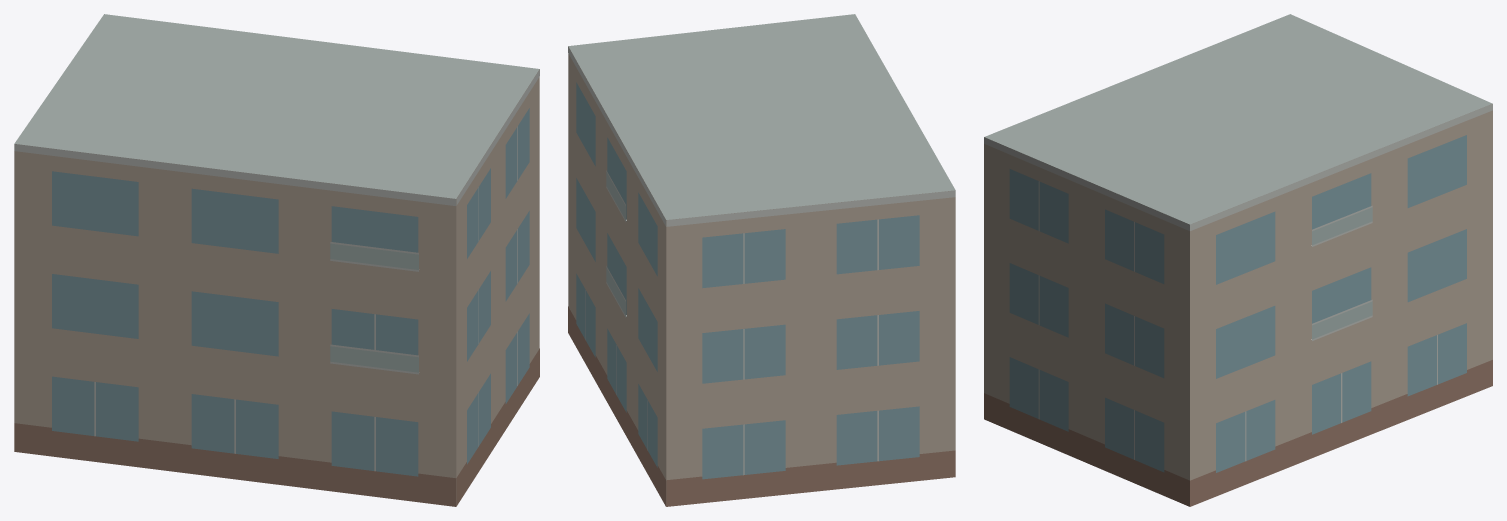
Rendered from survey-upis-32867102.glb.
The picture shows the model from 3 angles, left to right: view 1: azimuth 30°, elevation 25°; view 2: azimuth 150°, elevation 25°; view 3: azimuth 270°, elevation 25°; orthographic projection. The views are drawn at different scales.
Parts seen in each view (by area): view 1: survey-upis-32867102.tmp; view 2: survey-upis-32867102.tmp; view 3: survey-upis-32867102.tmp.
Part boxes in pixels (box(x1,y1,x2,y2)): survey-upis-32867102.tmp: box(14, 14, 539, 506); survey-upis-32867102.tmp: box(568, 14, 955, 506); survey-upis-32867102.tmp: box(984, 14, 1492, 506).
Size of the model in its own units: 16.49 by 10.3 by 16.83.
